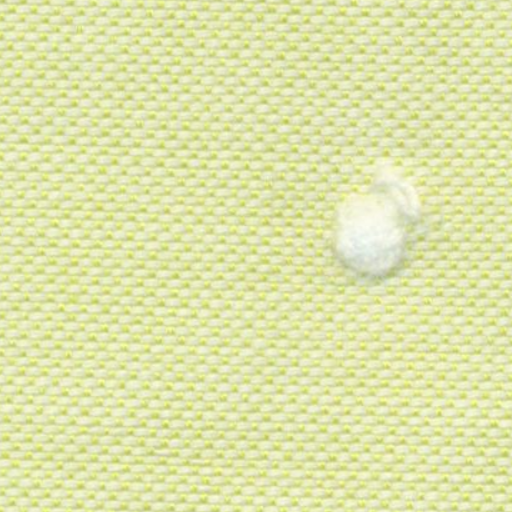MianQiu: (300, 132, 460, 287)
